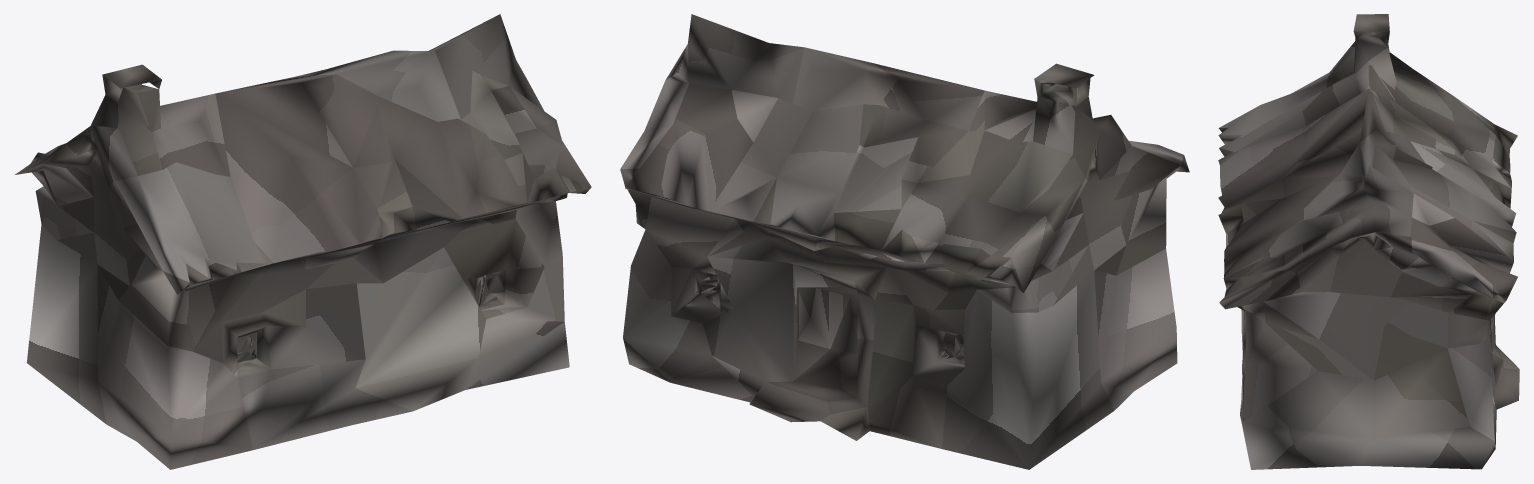
The model's file is house_generic_a_lo.glb.
3 views of the same model, side by side, from view 1: azimuth 30°, elevation 25°; view 2: azimuth 150°, elevation 25°; view 3: azimuth 270°, elevation 25° (orthographic). The views are drawn at different scales.
Parts seen in each view (by area): view 1: tripo_node_47480820-845d-4a85-95c8-4115cd9d7e76; view 2: tripo_node_47480820-845d-4a85-95c8-4115cd9d7e76; view 3: tripo_node_47480820-845d-4a85-95c8-4115cd9d7e76.
Boxes of the visible parts, box(x1,y1,x2,y2) form: tripo_node_47480820-845d-4a85-95c8-4115cd9d7e76: box(15, 14, 591, 469); tripo_node_47480820-845d-4a85-95c8-4115cd9d7e76: box(620, 14, 1189, 469); tripo_node_47480820-845d-4a85-95c8-4115cd9d7e76: box(1218, 14, 1519, 469).
Size of the model in its own units: 0.9593 by 0.729 by 0.6863.
Materials: 1 (1 with a texture image).
